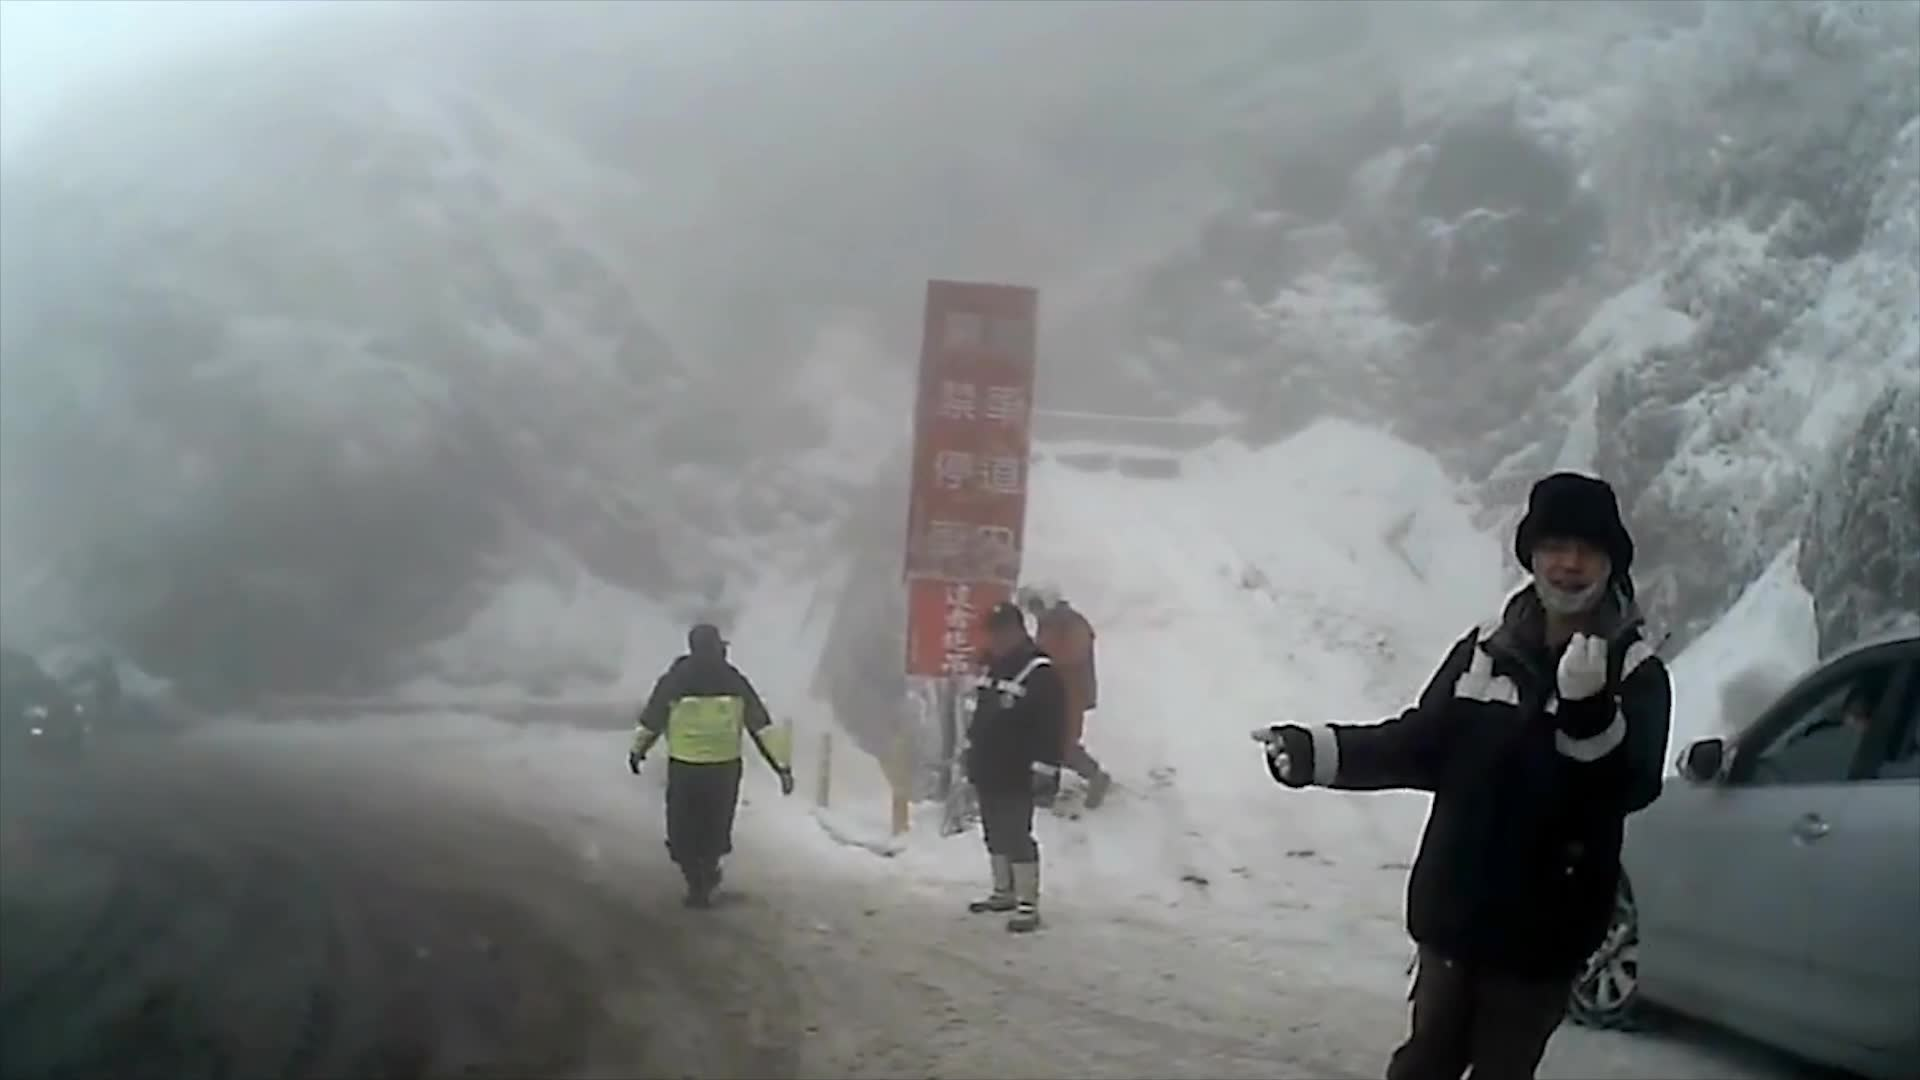pedestrian: (1245, 473, 1667, 1078), (629, 632, 787, 906), (965, 603, 1072, 932), (1020, 575, 1114, 814)
vehicle: (1513, 633, 1919, 1079)
